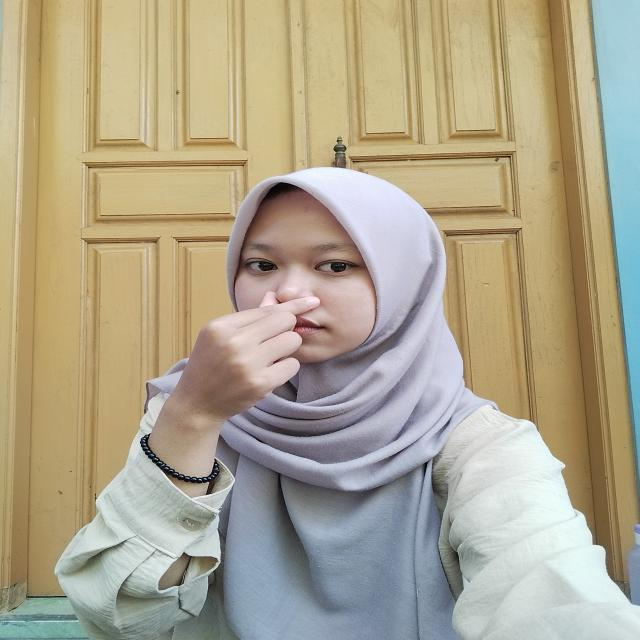bau: (150, 270, 330, 415)
